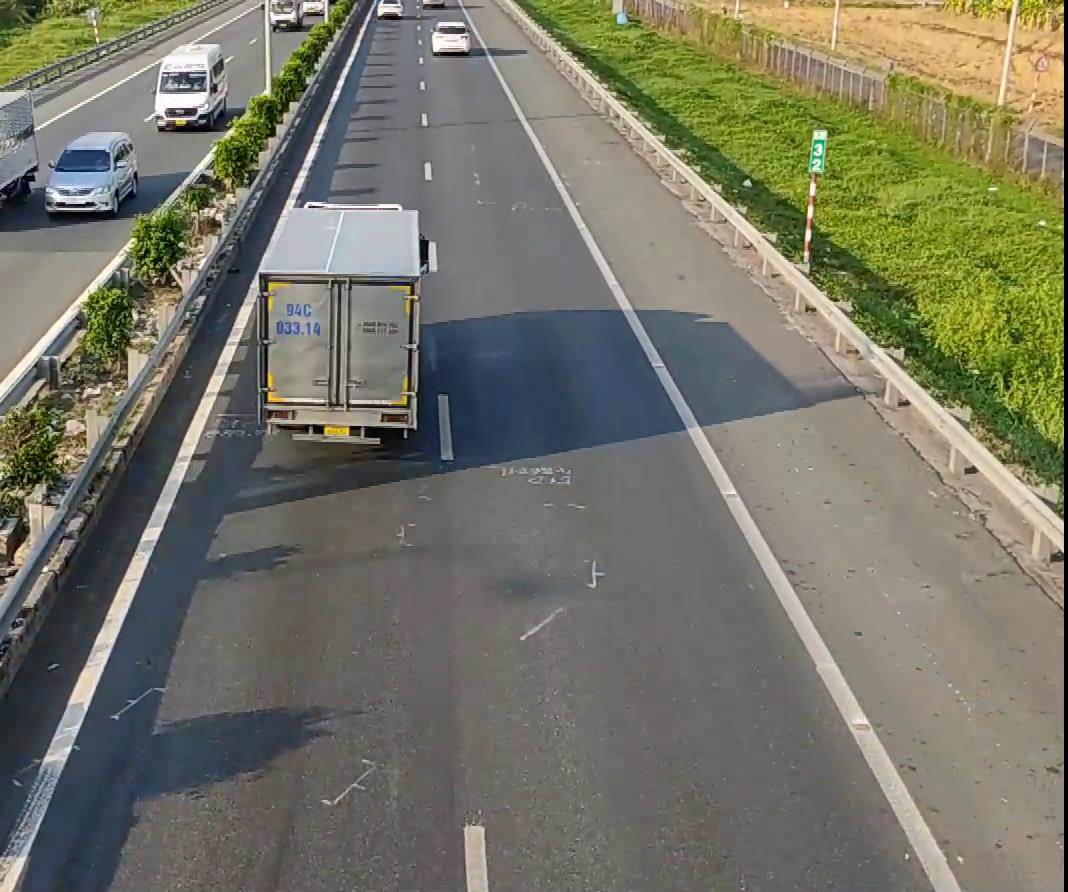car: (43, 130, 138, 216), (151, 40, 229, 130)
truck: (257, 193, 427, 453), (0, 86, 39, 213)
